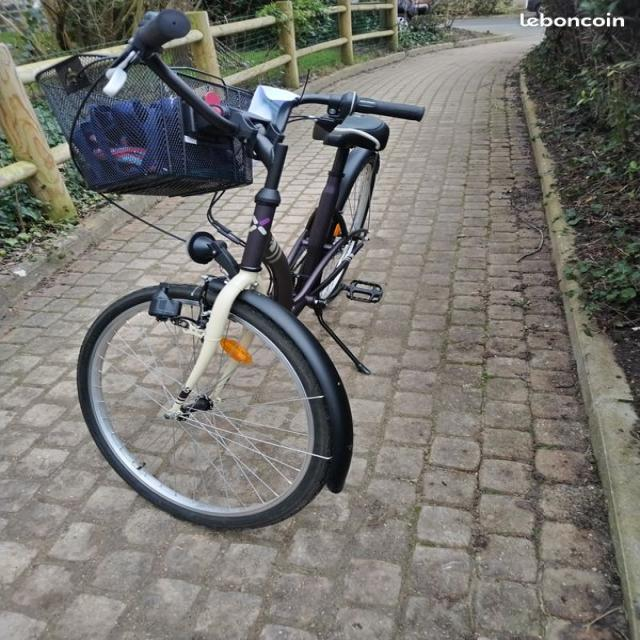Bike: (38, 9, 424, 529)
